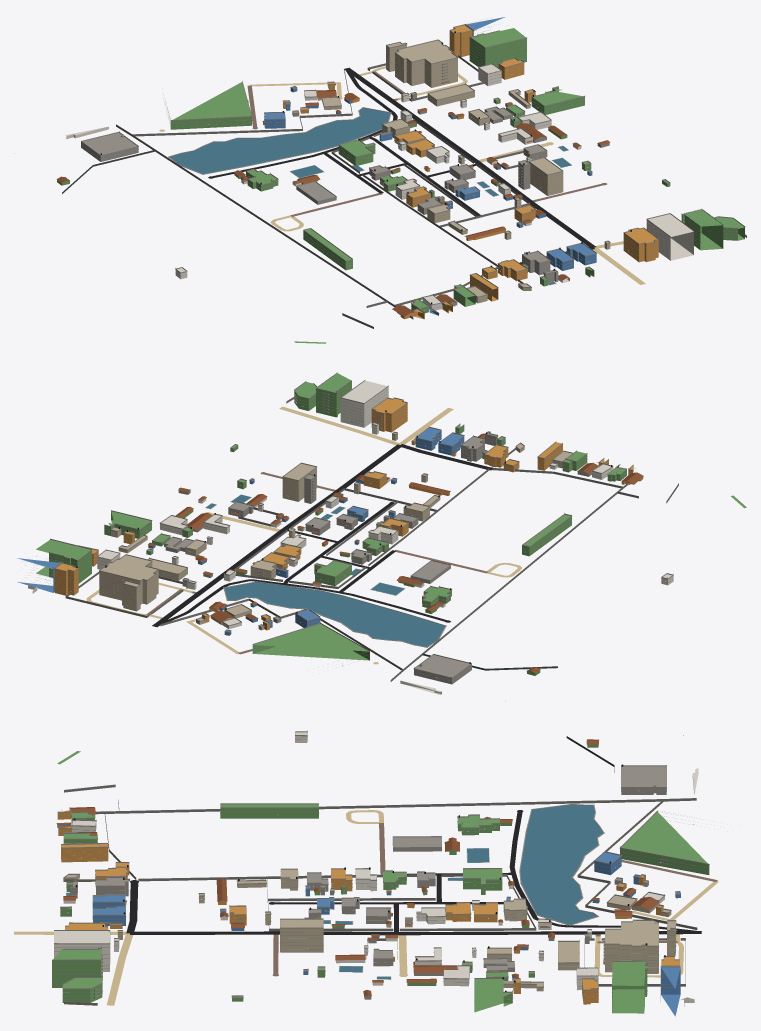
The model's file is zone_t3_-1.glb.
3 views of the same model, one above another, from view 1: azimuth 30°, elevation 25°; view 2: azimuth 150°, elevation 25°; view 3: azimuth 270°, elevation 25° (orthographic). The views are drawn at different scales.
Parts seen in each view (by area): view 1: bld_peinture_vert_t3_-1-col, parapet_t3_-1, bld_peinture_ecaillee_t3_-1-col, zone_eau_t3_-1, bld_peinture_ocre_t3_-1-col, bld_peinture_blanc_t3_-1-col, bld_beton_t3_-1-col, mur_wall_t3_-1-col, bandeau_t3_-1, bld_peinture_bleu_t3_-1-col, toit_tole_t3_-1, route_service_bitume_t3_-1 (+6 smaller); view 2: bld_peinture_vert_t3_-1-col, parapet_t3_-1, bld_peinture_ecaillee_t3_-1-col, zone_eau_t3_-1, bld_peinture_blanc_t3_-1-col, bld_peinture_ocre_t3_-1-col, bld_beton_t3_-1-col, mur_wall_t3_-1-col, bandeau_t3_-1, bld_peinture_bleu_t3_-1-col, toit_tole_t3_-1, route_service_bitume_t3_-1 (+4 smaller); view 3: bld_peinture_vert_t3_-1-col, parapet_t3_-1, bld_peinture_ecaillee_t3_-1-col, zone_eau_t3_-1, mur_wall_t3_-1-col, bld_beton_t3_-1-col, bld_peinture_blanc_t3_-1-col, bld_peinture_ocre_t3_-1-col, bld_peinture_bleu_t3_-1-col, toit_tole_t3_-1, bandeau_t3_-1, route_residential_bitume_t3_-1 (+6 smaller).
Boxes of the visible parts, x1,y1,x2,y2 form: bld_peinture_vert_t3_-1-col: (57,28,744,313); parapet_t3_-1: (14,23,745,313); bld_peinture_ecaillee_t3_-1-col: (290,40,610,303); zone_eau_t3_-1: (170,108,390,173); bld_peinture_ocre_t3_-1-col: (283,25,658,319); bld_peinture_blanc_t3_-1-col: (65,64,693,310); bld_beton_t3_-1-col: (81,93,609,306); mur_wall_t3_-1-col: (116,55,746,328); bandeau_t3_-1: (81,29,744,316); bld_peinture_bleu_t3_-1-col: (264,17,596,315); toit_tole_t3_-1: (56,90,610,316); route_service_bitume_t3_-1: (208,70,480,215); bld_peinture_vert_t3_-1-col: (36,373,626,675); parapet_t3_-1: (49,372,673,701); bld_peinture_ecaillee_t3_-1-col: (99,432,571,630); zone_eau_t3_-1: (224,582,445,646); bld_peinture_blanc_t3_-1-col: (28,380,673,695); bld_peinture_ocre_t3_-1-col: (54,398,643,630); bld_beton_t3_-1-col: (164,432,591,684); mur_wall_t3_-1-col: (65,397,678,681); bandeau_t3_-1: (25,384,673,681); bld_peinture_bleu_t3_-1-col: (17,427,618,635); toit_tole_t3_-1: (148,433,643,673); route_service_bitume_t3_-1: (155,502,450,626); bld_peinture_vert_t3_-1-col: (52,744,709,1013); parapet_t3_-1: (52,731,709,1001); bld_peinture_ecaillee_t3_-1-col: (63,869,675,1002); zone_eau_t3_-1: (520,804,602,924); mur_wall_t3_-1-col: (64,784,697,1005); bld_beton_t3_-1-col: (70,766,666,999); bld_peinture_blanc_t3_-1-col: (54,732,698,1006); bld_peinture_ocre_t3_-1-col: (57,810,679,1004); bld_peinture_bleu_t3_-1-col: (57,822,680,1016); toit_tole_t3_-1: (56,739,659,996); bandeau_t3_-1: (52,738,720,1008); route_residential_bitume_t3_-1: (126,880,701,935).
Bounding box in the file's own units: 521 × 26 × 579.
